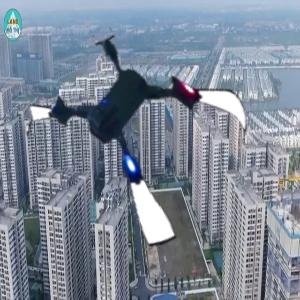drone: (32, 17, 261, 246)
